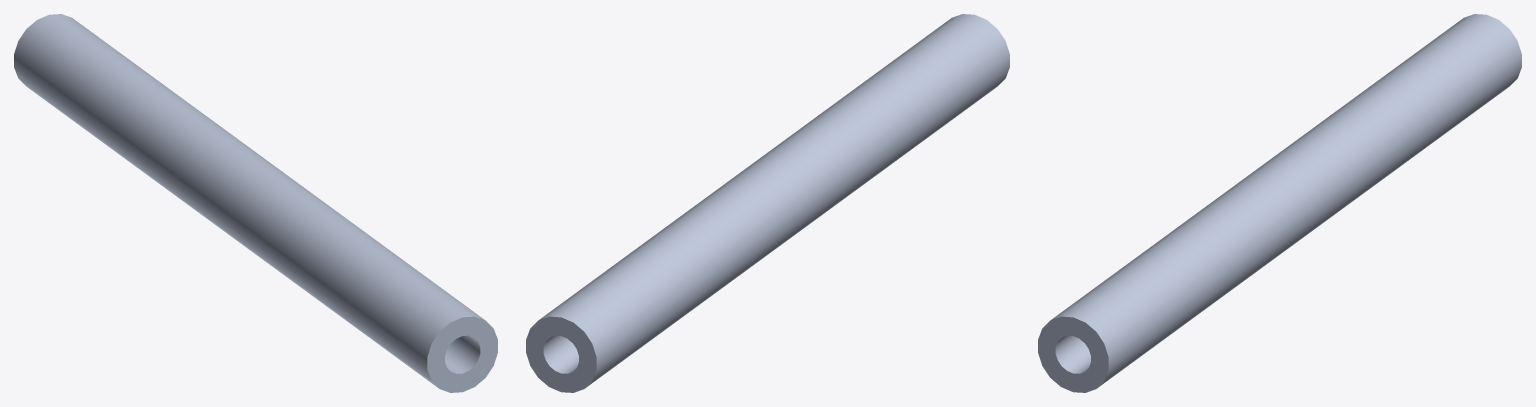
3 views of the same model, side by side, from view 1: azimuth 30°, elevation 25°; view 2: azimuth 150°, elevation 25°; view 3: azimuth 330°, elevation 25° (orthographic).
Parts seen in each view (by area): view 1: 凸台-拉伸1; view 2: 凸台-拉伸1; view 3: 凸台-拉伸1.
Part boxes in pixels (x1,y1,x2,y2): 凸台-拉伸1: (14, 14, 497, 392); 凸台-拉伸1: (526, 14, 1009, 392); 凸台-拉伸1: (1038, 14, 1521, 392).
Size of the model in its own units: 0.7878 by 0.8 by 8.
